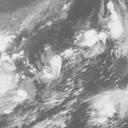cyclone: (32, 41, 82, 94)
